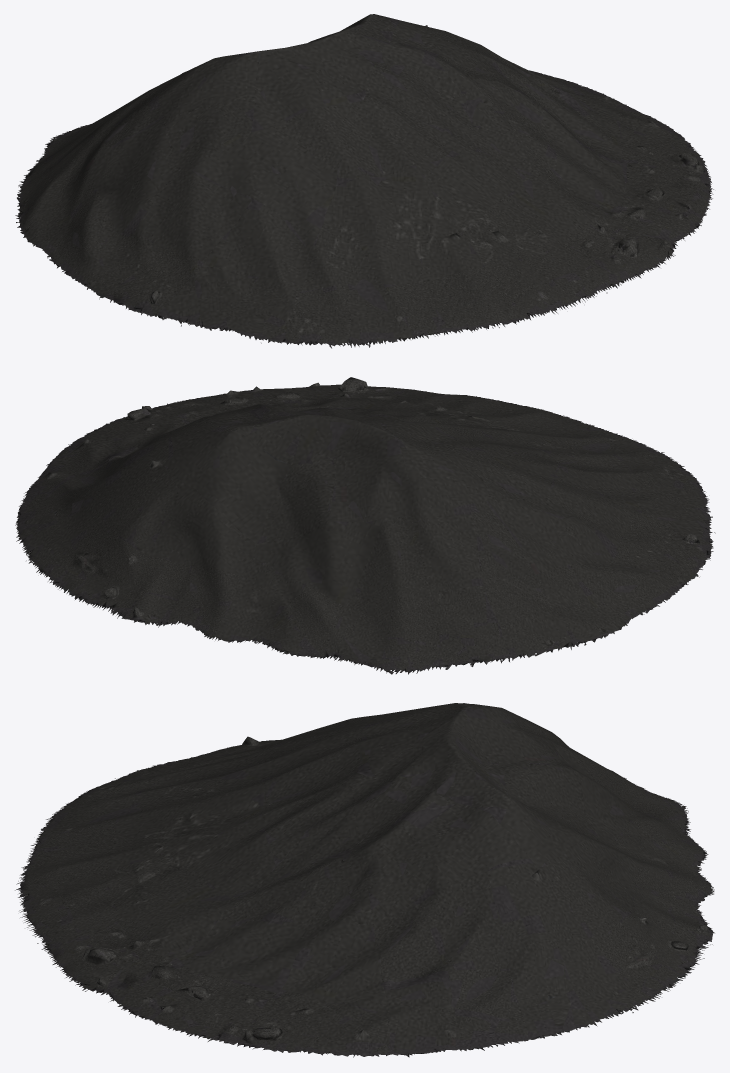
Rendered from ash.glb.
The picture shows the model from 3 angles, top to bottom: view 1: azimuth 30°, elevation 25°; view 2: azimuth 150°, elevation 25°; view 3: azimuth 270°, elevation 25°; orthographic projection. The views are drawn at different scales.
Size of the model in its own units: 1.88 by 0.4096 by 1.73.
1 material, 1 textured.
